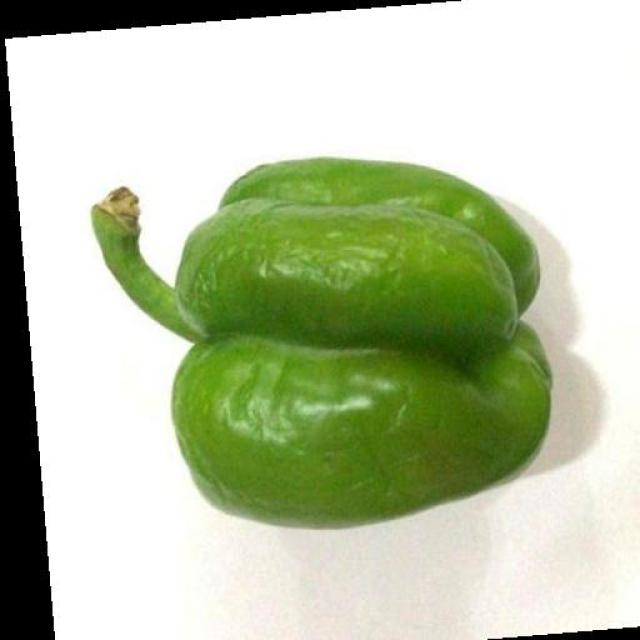Fresh_Capsicum: (89, 124, 595, 513)
